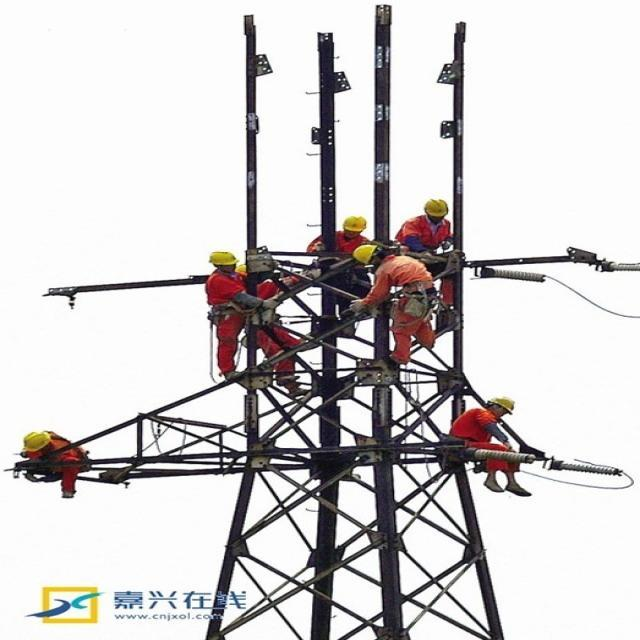non-critical vegetation: (150, 236, 534, 630)
